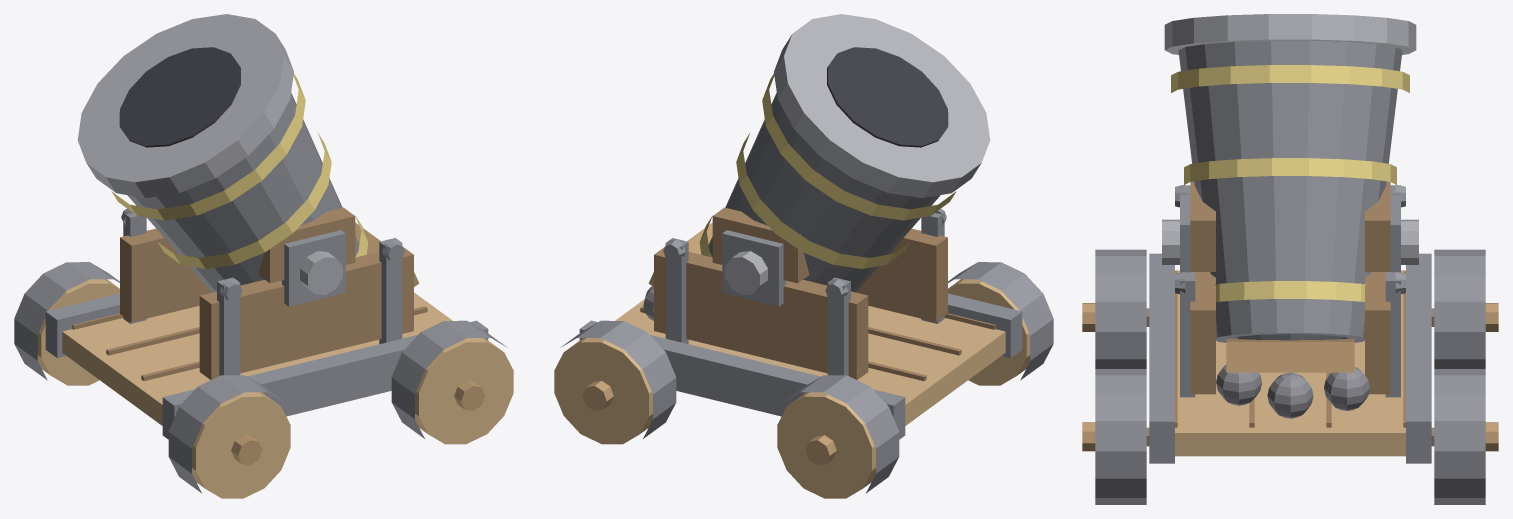
Rendered from ws_siege_mortar.glb.
The picture shows the model from 3 angles, left to right: view 1: azimuth 30°, elevation 25°; view 2: azimuth 150°, elevation 25°; view 3: azimuth 270°, elevation 25°; orthographic projection. The views are drawn at different scales.
Parts seen in each view (by area): view 1: frame, barrel; view 2: frame, barrel; view 3: frame, barrel.
Boxes of the visible parts, <box> form: frame: <box>14,207,513,498</box>; barrel: <box>77,14,368,292</box>; frame: <box>554,207,1053,498</box>; barrel: <box>699,14,990,292</box>; frame: <box>1082,181,1498,504</box>; barrel: <box>1164,14,1416,342</box>.
Size of the model in its own units: 1.65 by 1.82 by 1.62.
